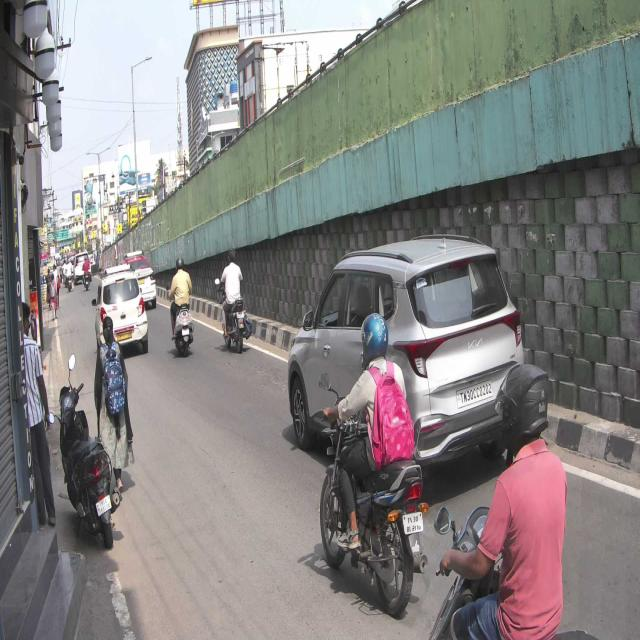single_rider: (316, 313, 424, 613)
